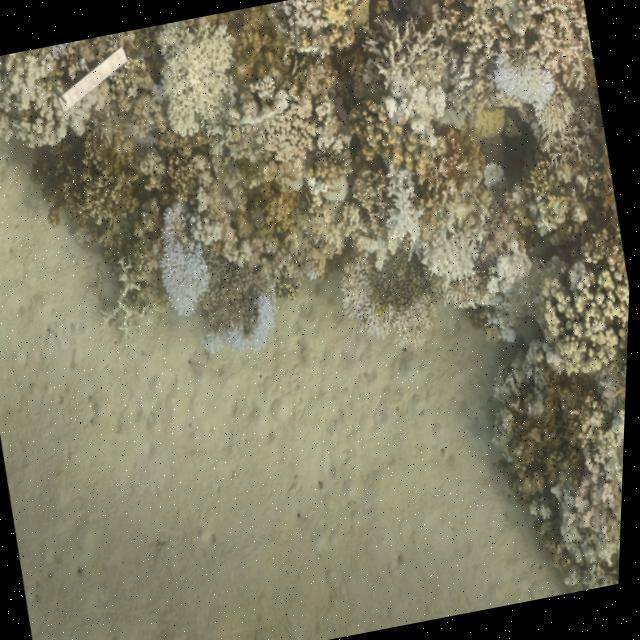Bleached Coral: (140, 13, 246, 138), (337, 249, 435, 356), (151, 205, 224, 321), (482, 34, 570, 128), (0, 46, 73, 159), (476, 242, 550, 345), (376, 65, 457, 150), (374, 154, 436, 256), (200, 308, 288, 364), (590, 407, 628, 532), (415, 226, 488, 284), (474, 0, 558, 21)
